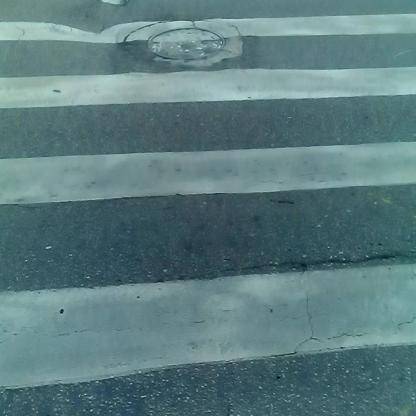crosswalk: (3, 6, 410, 416)
